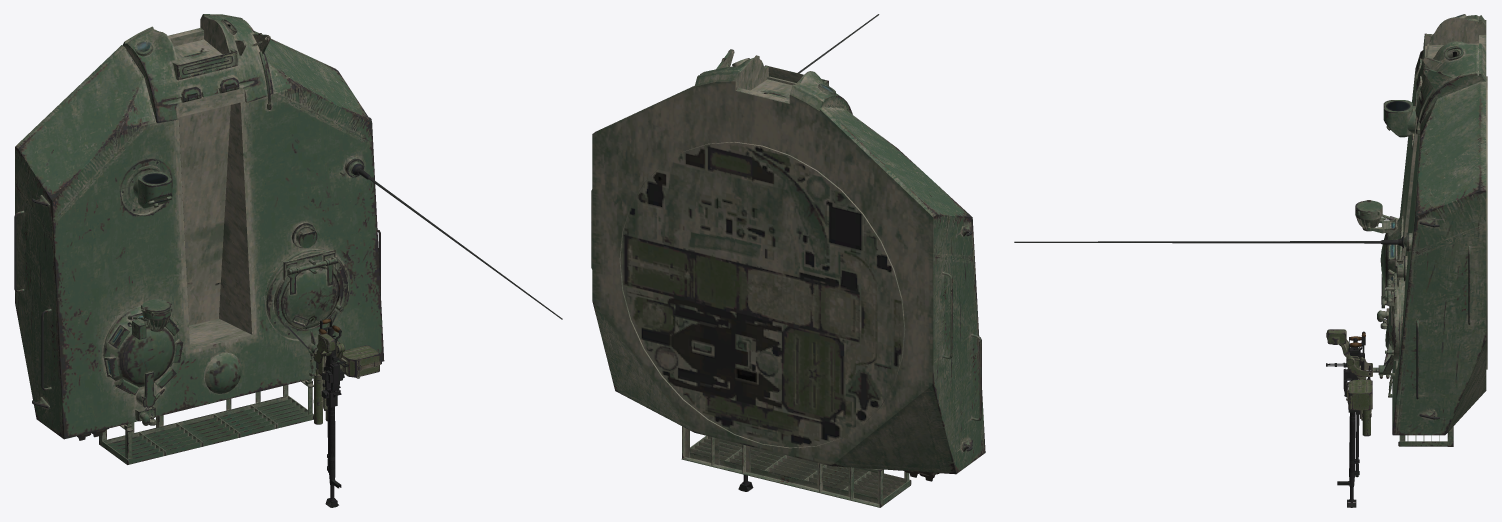
The model's file is Turret_01.glb.
The picture shows the model from 3 angles, left to right: view 1: azimuth 30°, elevation 25°; view 2: azimuth 150°, elevation 25°; view 3: azimuth 270°, elevation 25°; orthographic projection. The views are drawn at different scales.
Parts seen in each view (by area): view 1: set_0_group_0; view 2: set_0_group_0; view 3: set_0_group_0.
Part boxes in pixels (box(x1,y1,x2,y2)): set_0_group_0: box(14, 14, 562, 507); set_0_group_0: box(591, 14, 985, 507); set_0_group_0: box(1014, 14, 1487, 507).
Size of the model in its own units: 3.18 by 4.12 by 4.04.
1 material, 1 textured.
